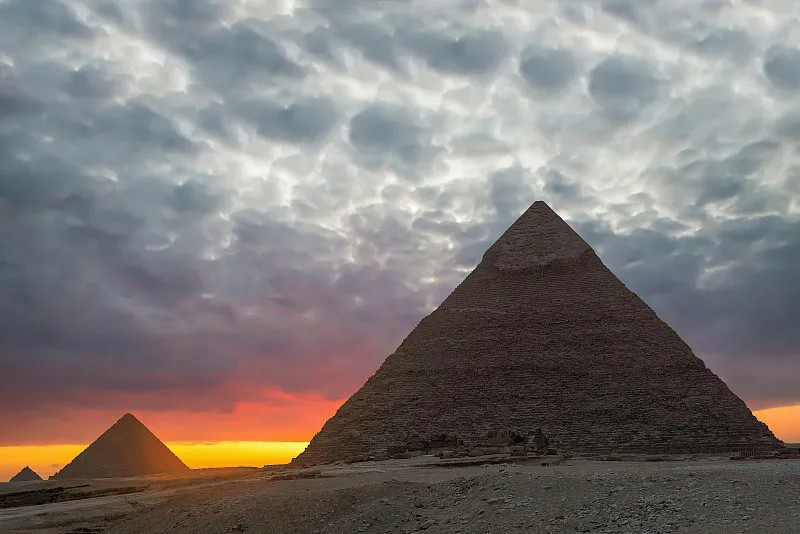Pyramid: (290, 200, 784, 464), (51, 413, 192, 478), (8, 464, 44, 483)
